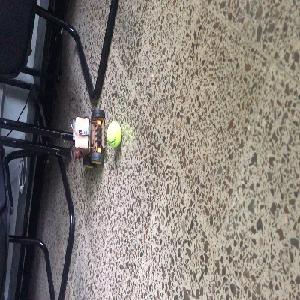Ball: (106, 122, 122, 148)
Robot: (72, 109, 104, 169)
